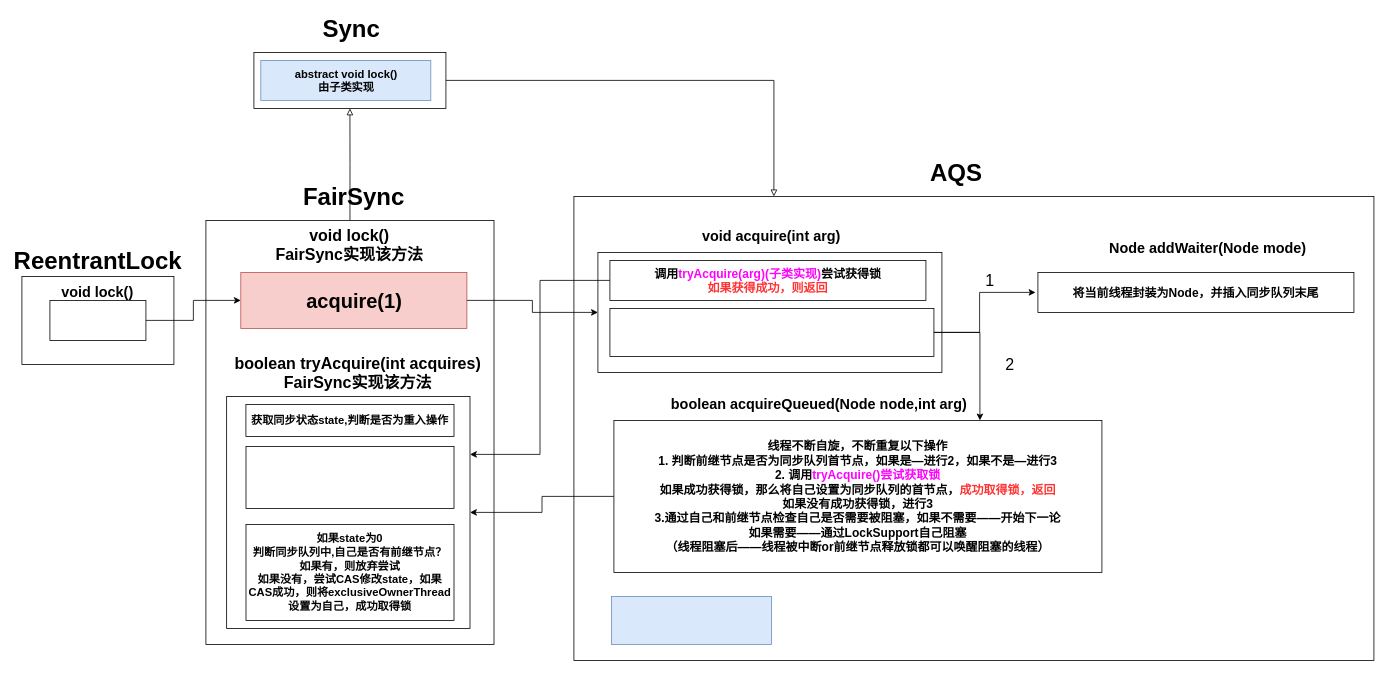
The diagram is 1388 pixels wide and 674 high, and some of its shapes have lost their labels. The shapes that lost their labels are listed below. From the top down, each one's centre as x and y in pixels, then its label:
(97,320): sync.lock()
(771,332): 调用acquireQueued(addWaiter(Node.ExCLUSIVE),arg) 将当前线程封装为Node加入同步队列 并让线程在同步队列中不断自旋
(349,477): 如果state不为0,为重入操作 如果锁的持有线程是当前线程，那么state+requires 返回
(691,620): boolean tryAcquire() 由子类实现
